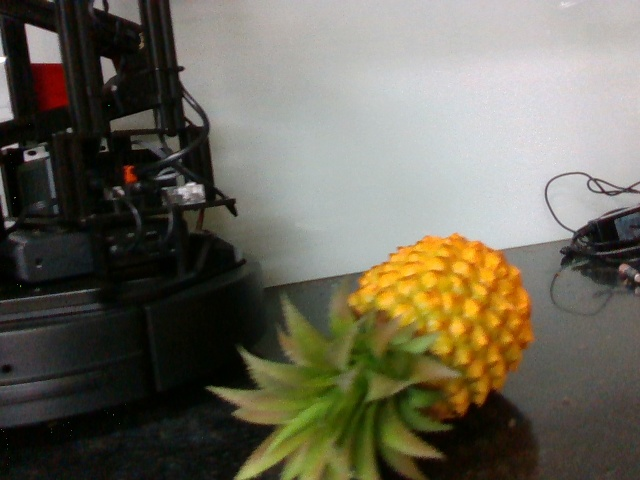pineapple: (231, 234, 534, 480)
